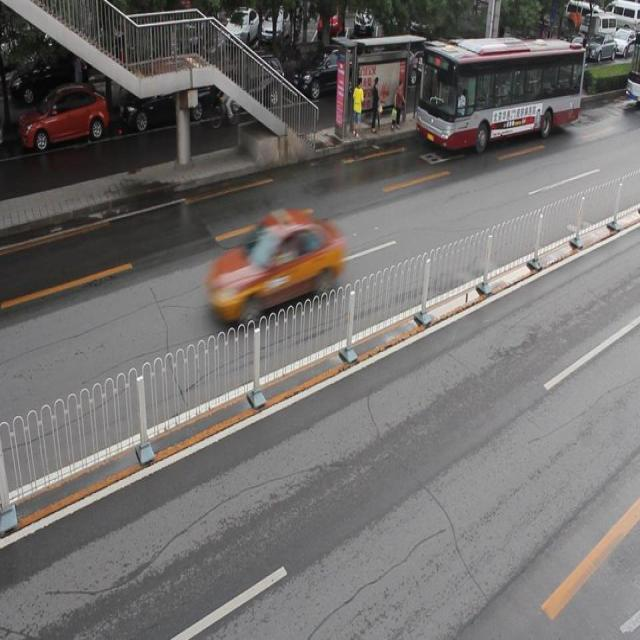car: (209, 210, 341, 320), (18, 82, 108, 148), (118, 74, 210, 127), (220, 50, 285, 114), (292, 42, 361, 100)
van: (418, 43, 583, 147)
